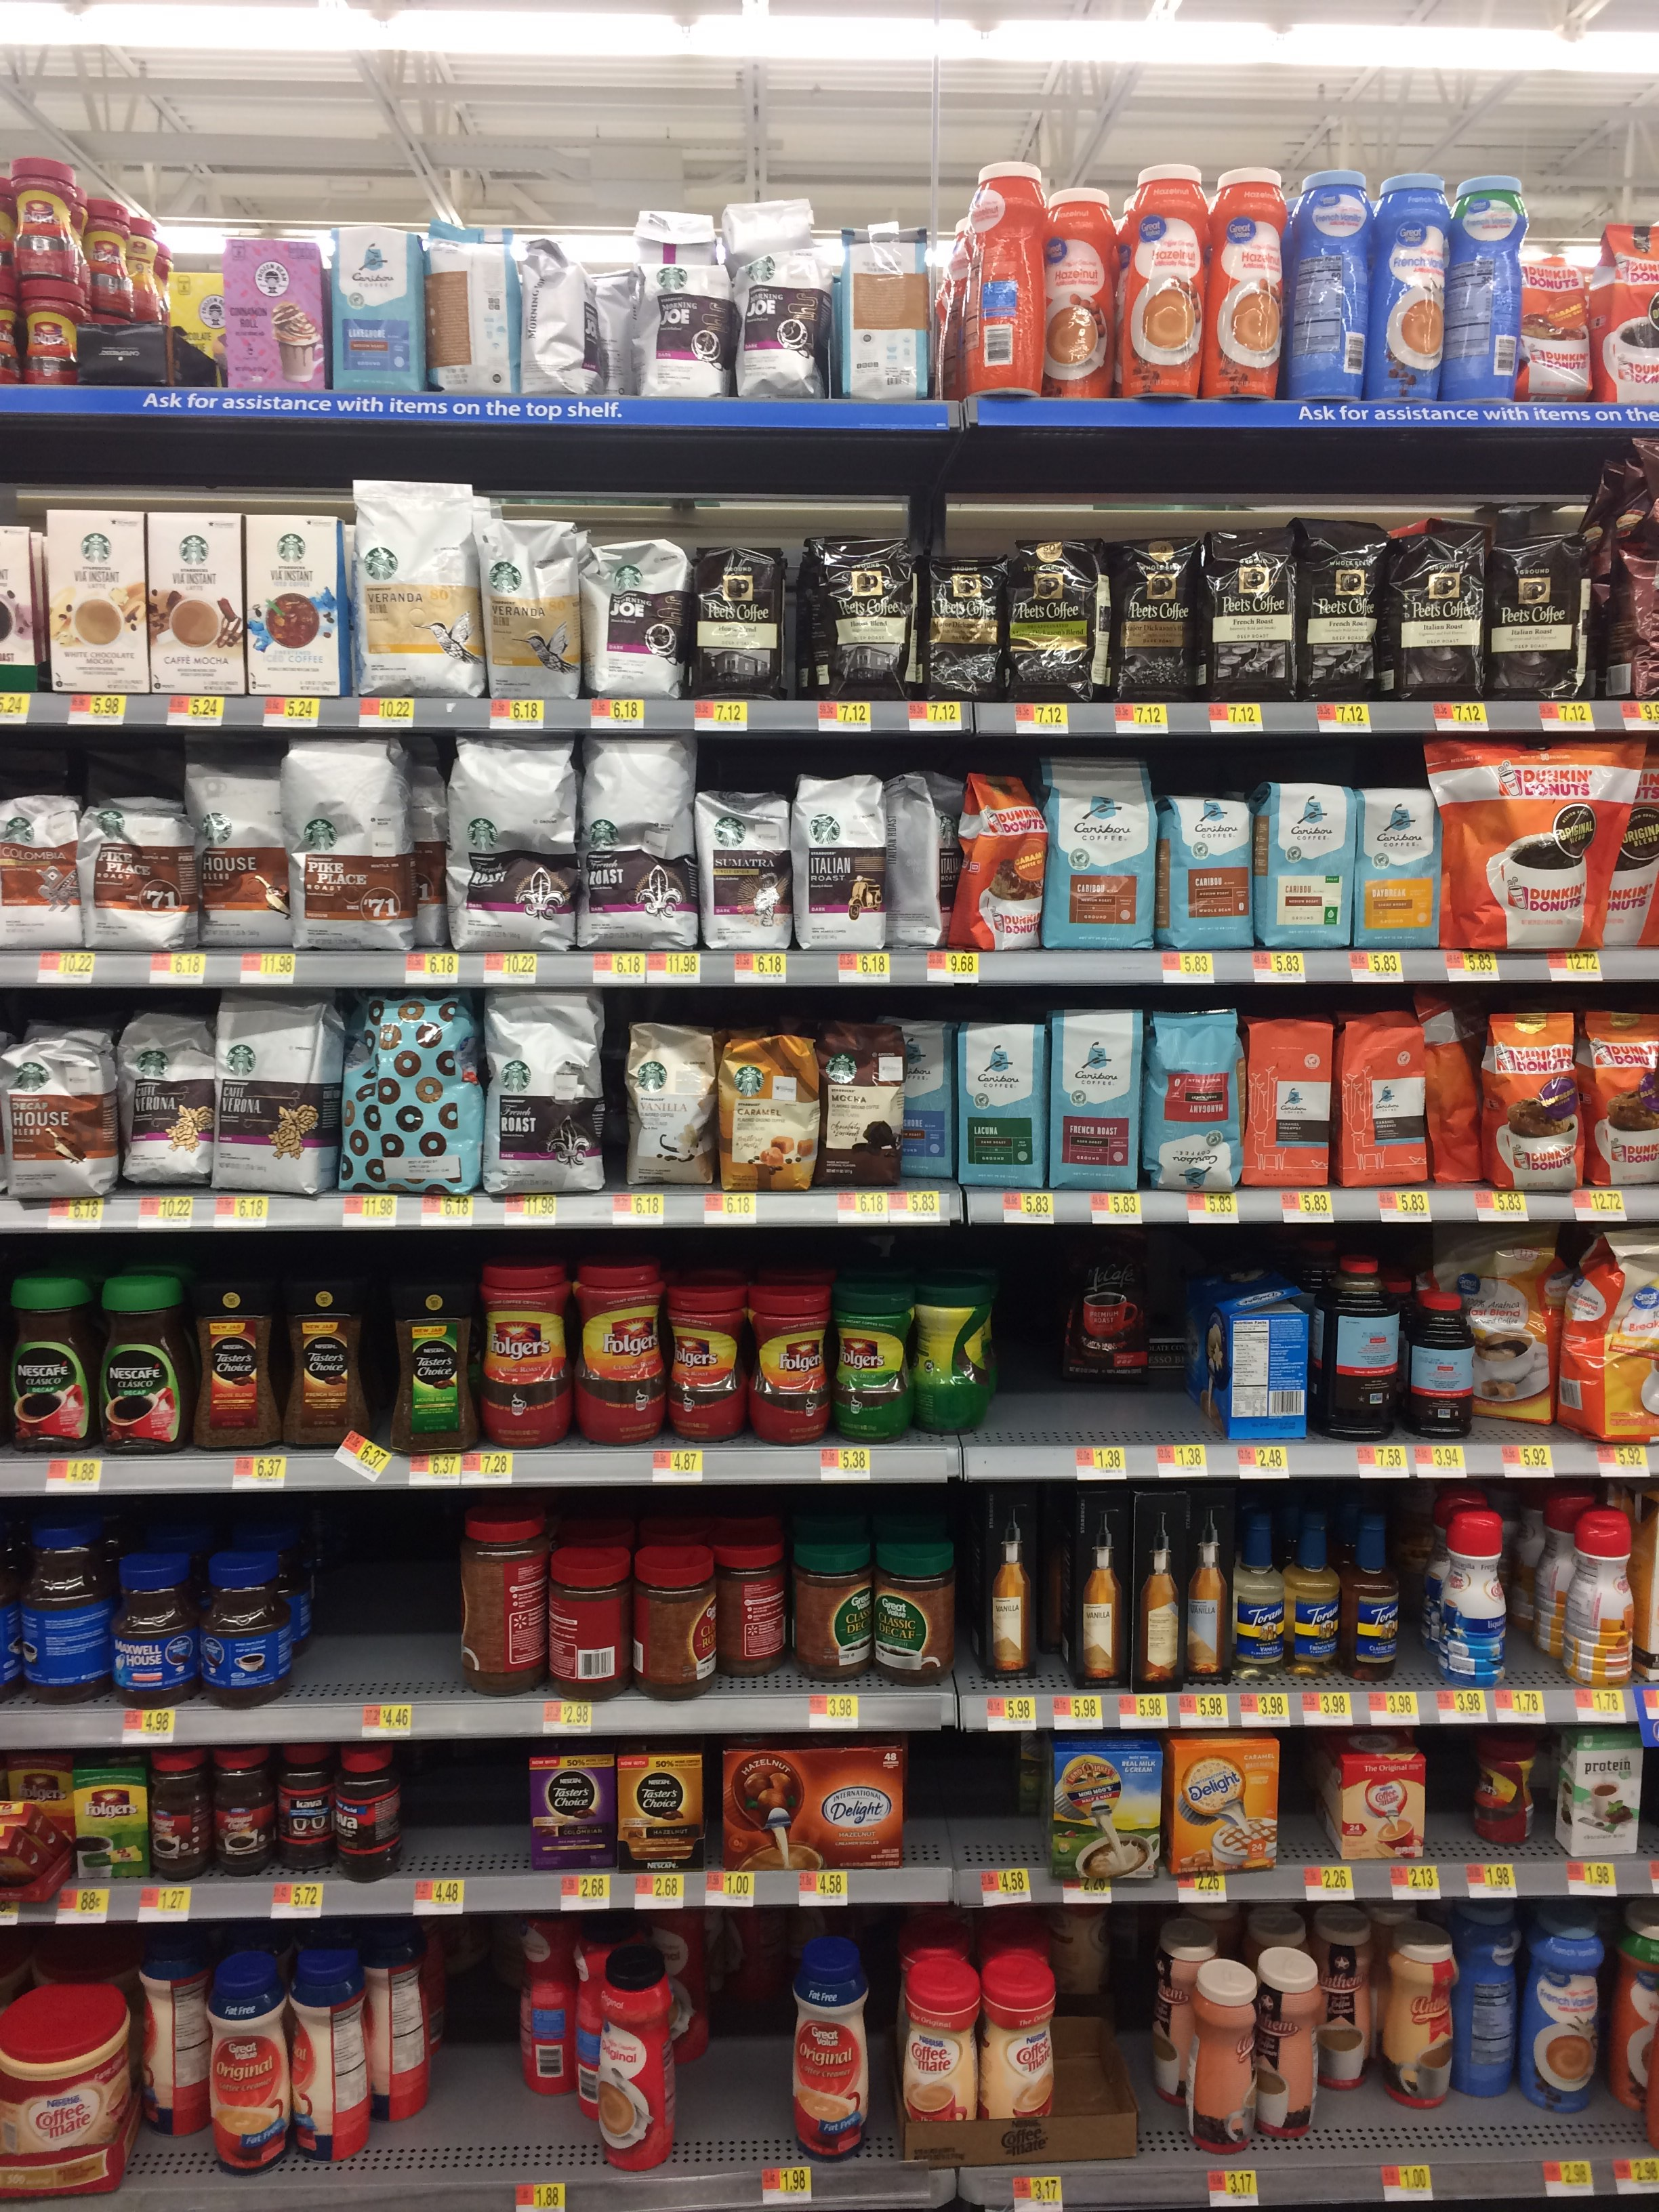Misplacement: (1056, 1224, 1234, 1444)
